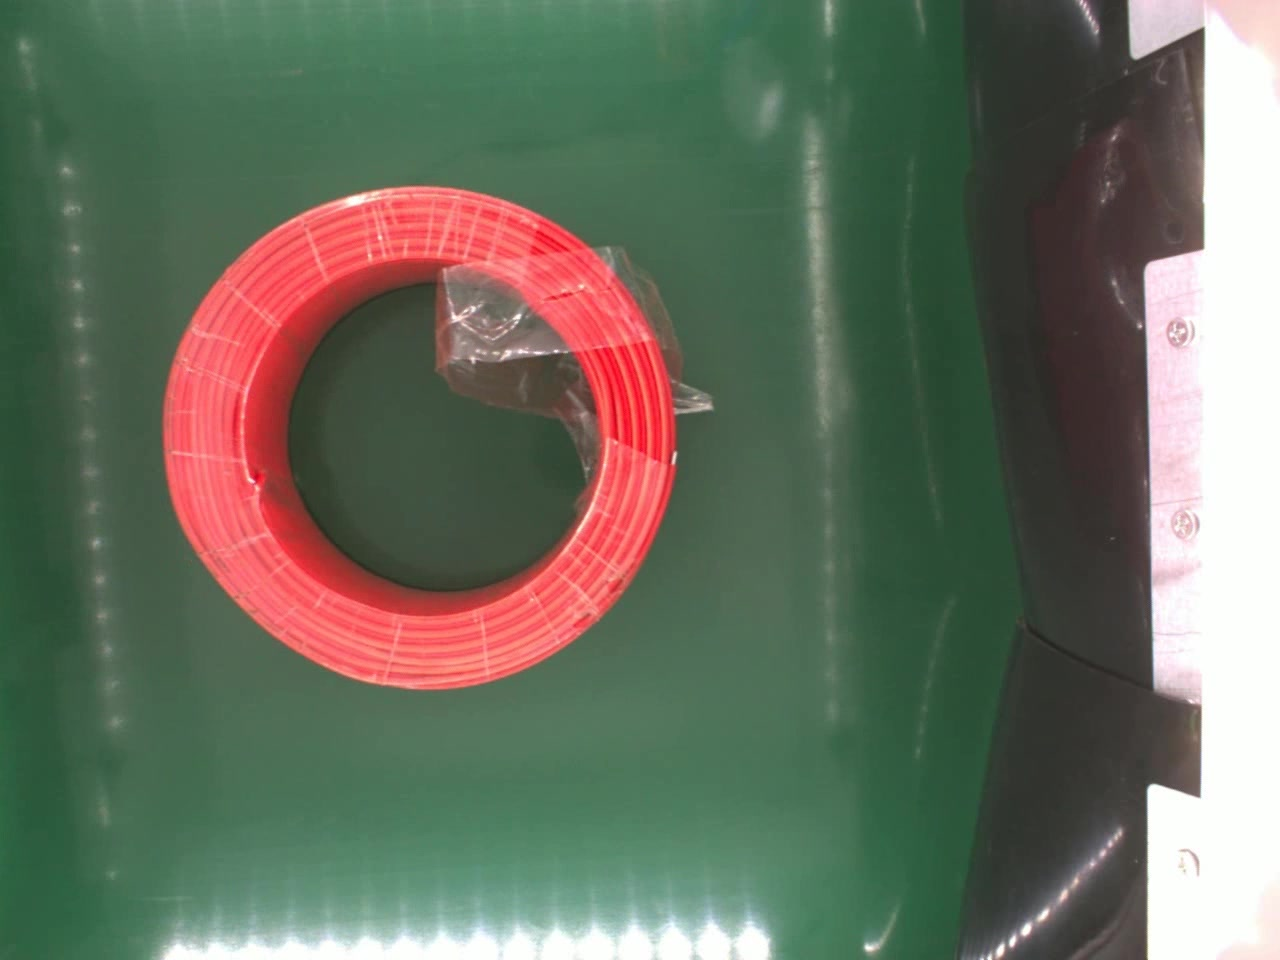red: (160, 187, 680, 698)
